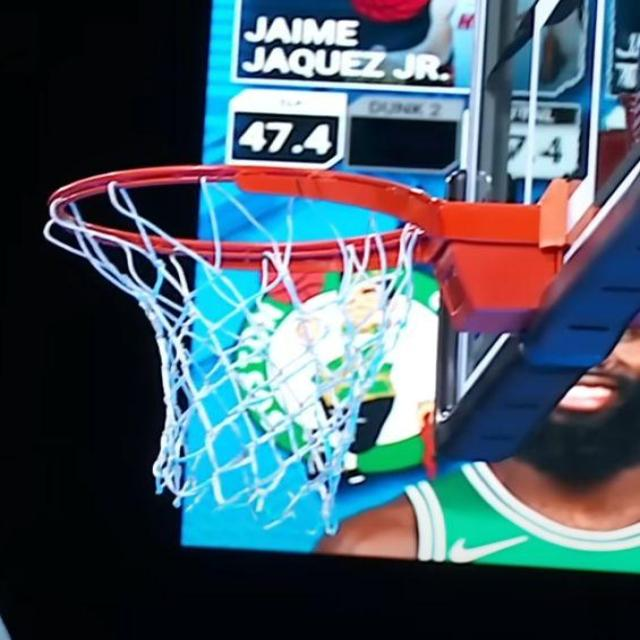hoop: (9, 133, 594, 512)
